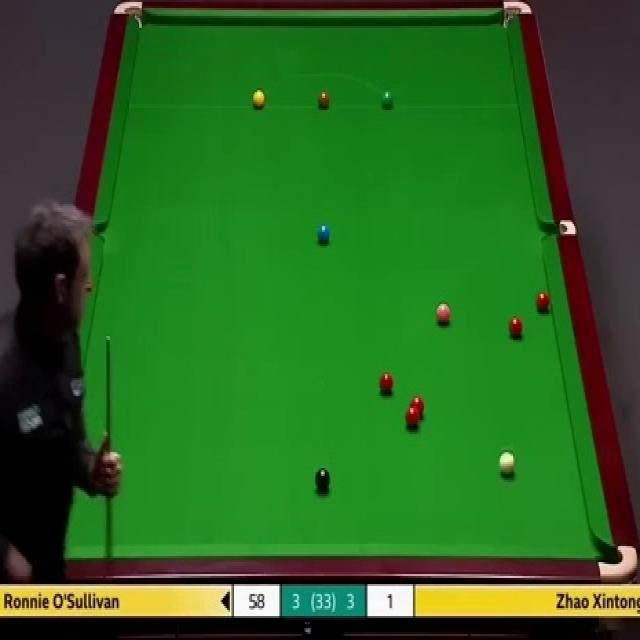pocket: (595, 545, 638, 583), (500, 0, 532, 32), (113, 0, 143, 28), (540, 220, 574, 235)
